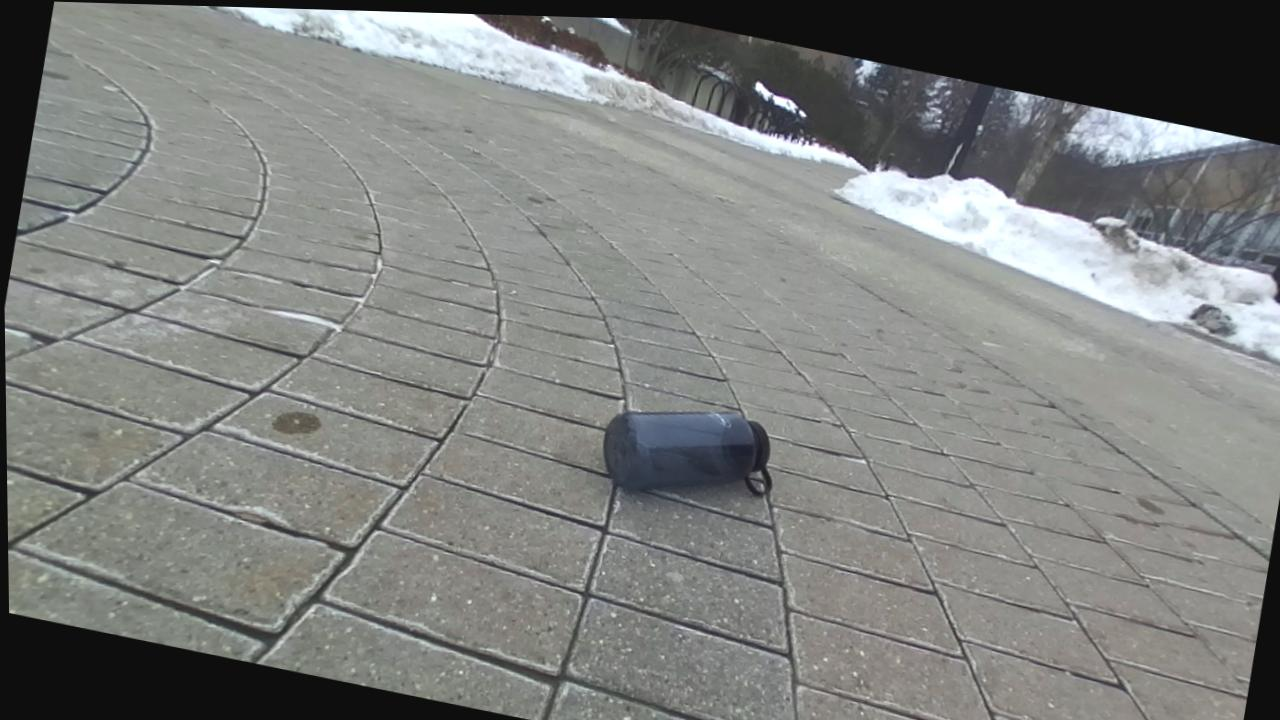bottle: (602, 410, 771, 496)
